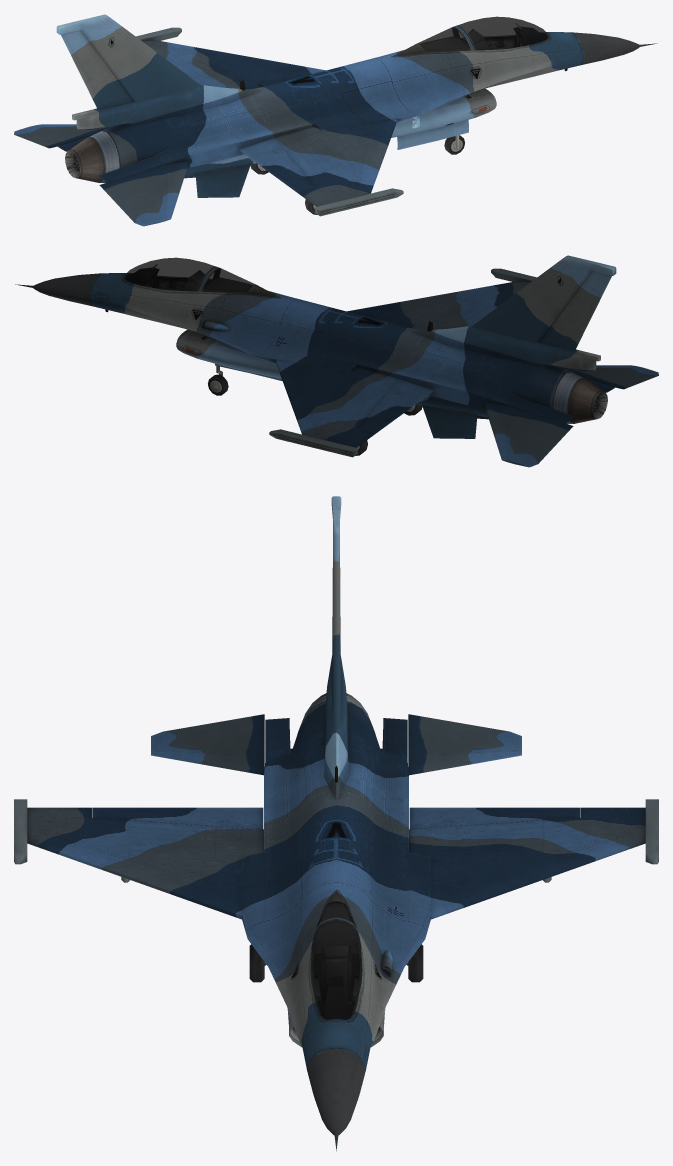
File: f-16a_block_15_usa.glb
3 views of the same model, one above another, from view 1: azimuth 30°, elevation 25°; view 2: azimuth 150°, elevation 25°; view 3: azimuth 270°, elevation 25° (orthographic). The views are drawn at different scales.
Parts seen in each view (by area): view 1: mesh_306_mat_62_0, mesh_307_mat_63_0, mesh_163_mat_62_0; view 2: mesh_306_mat_62_0, mesh_307_mat_63_0, mesh_163_mat_62_0; view 3: mesh_306_mat_62_0, mesh_307_mat_63_0, mesh_163_mat_62_0.
Boxes of the visible parts, bbox=[...] form: mesh_306_mat_62_0: bbox=[14, 14, 657, 226]; mesh_307_mat_63_0: bbox=[417, 16, 549, 50]; mesh_163_mat_62_0: bbox=[250, 120, 468, 214]; mesh_306_mat_62_0: bbox=[15, 255, 658, 467]; mesh_307_mat_63_0: bbox=[123, 257, 255, 291]; mesh_163_mat_62_0: bbox=[208, 363, 422, 455]; mesh_306_mat_62_0: bbox=[14, 496, 658, 1151]; mesh_307_mat_63_0: bbox=[310, 901, 362, 1020]; mesh_163_mat_62_0: bbox=[249, 944, 423, 982].
Bounding box in the file's own units: 159 × 56.65 × 103.
Materials: 2 (2 with a texture image).
